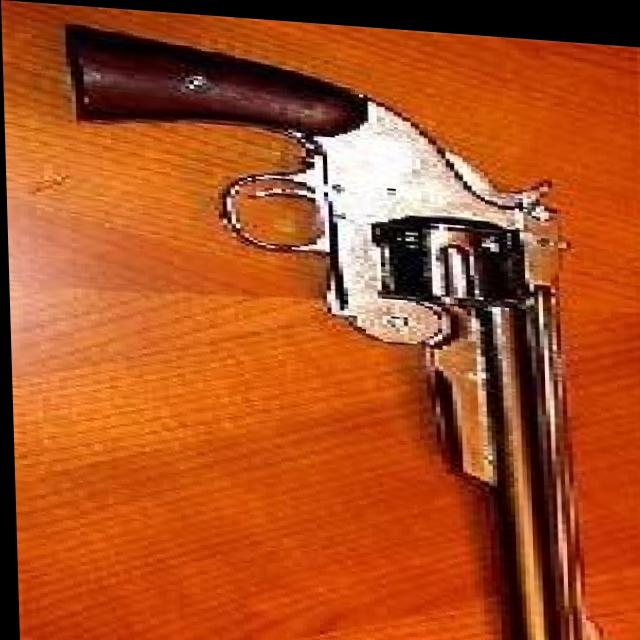handgun: (64, 17, 604, 640)
